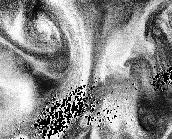CE: (19, 5, 74, 60)
